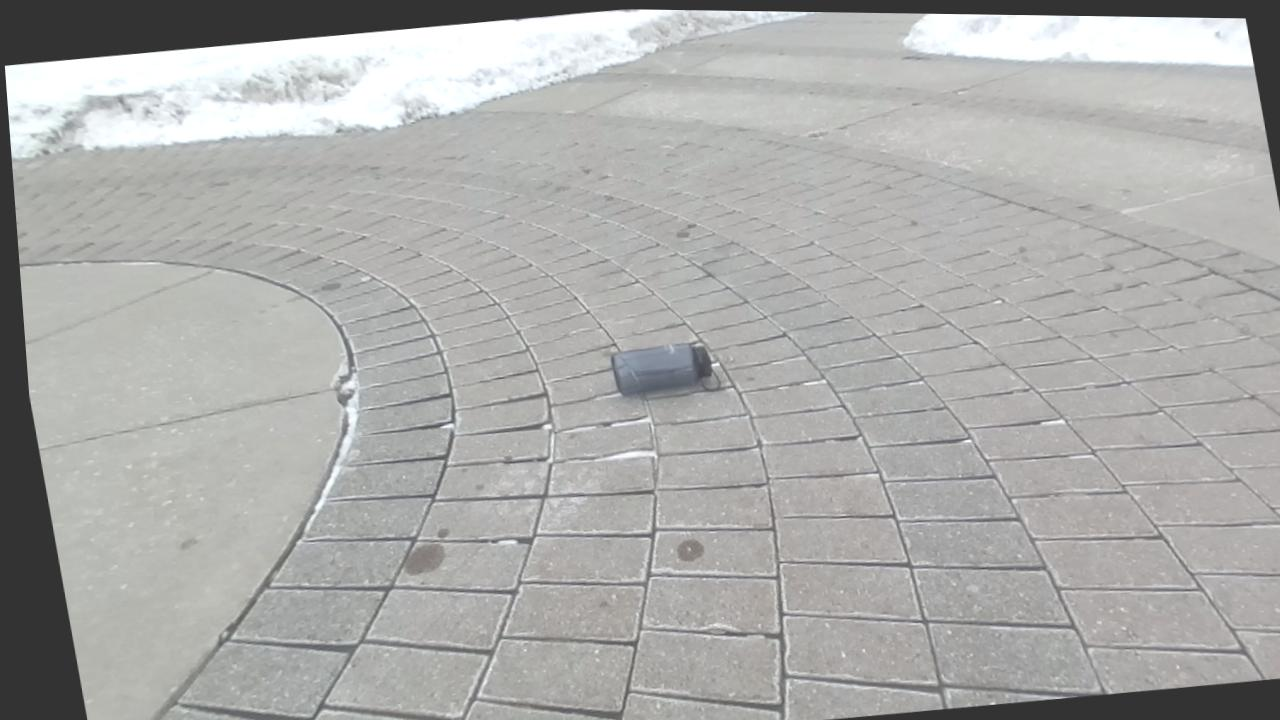bottle: (611, 342, 712, 395)
